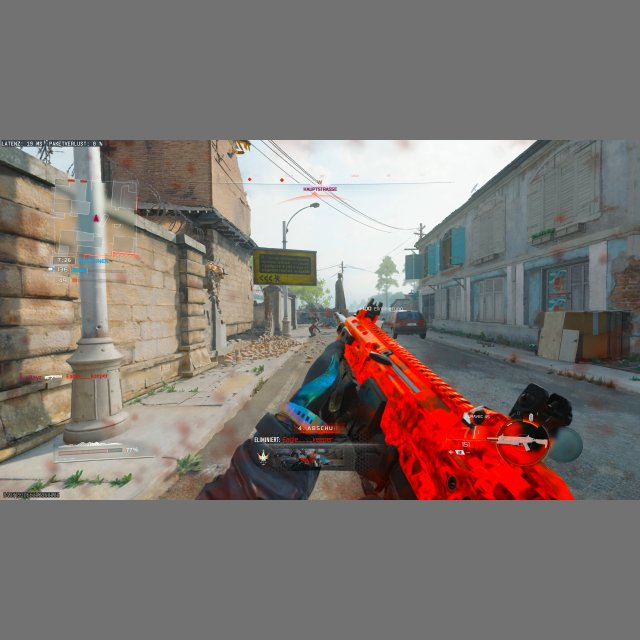player: (308, 314, 320, 337)
